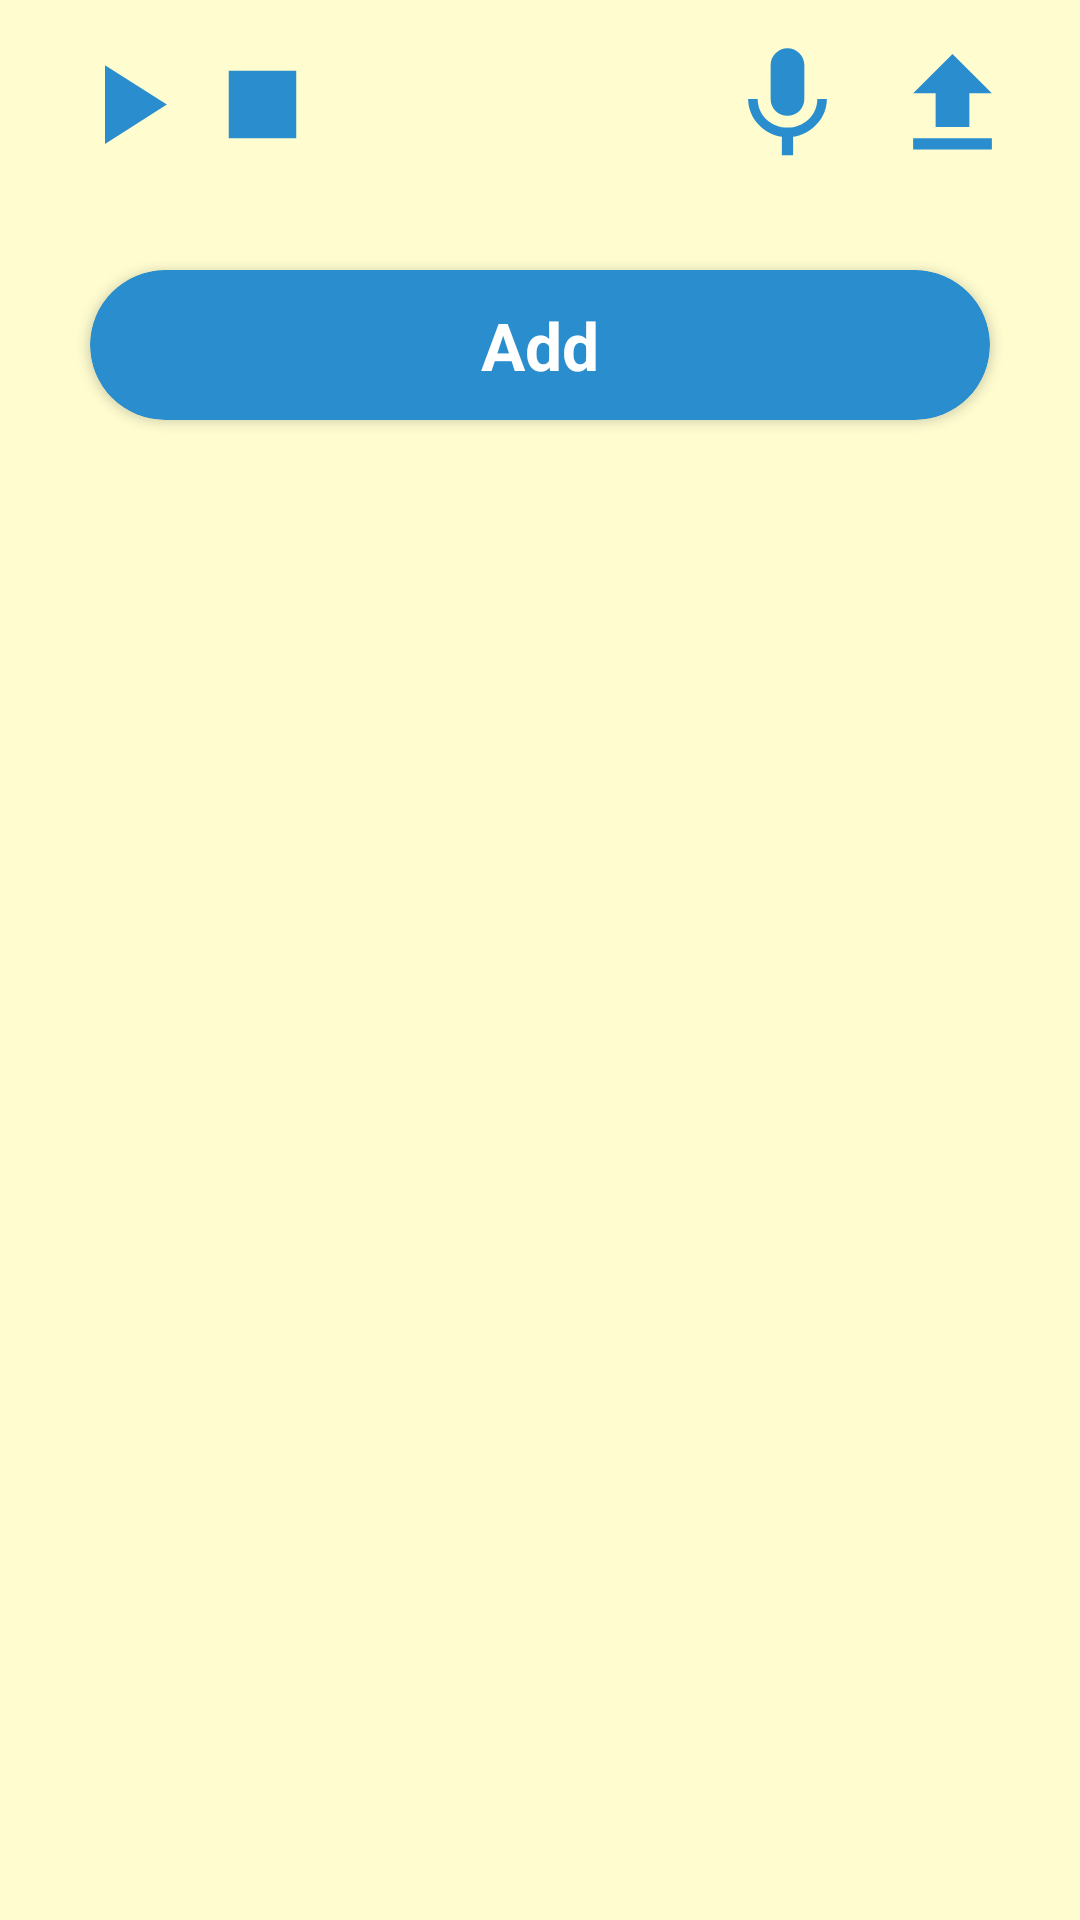

Icon click points for this 1080w x 1920h phone screenshot, format (x,y):
mic: (787,102)
play: (136,104)
stop: (262,104)
upload: (952,102)
